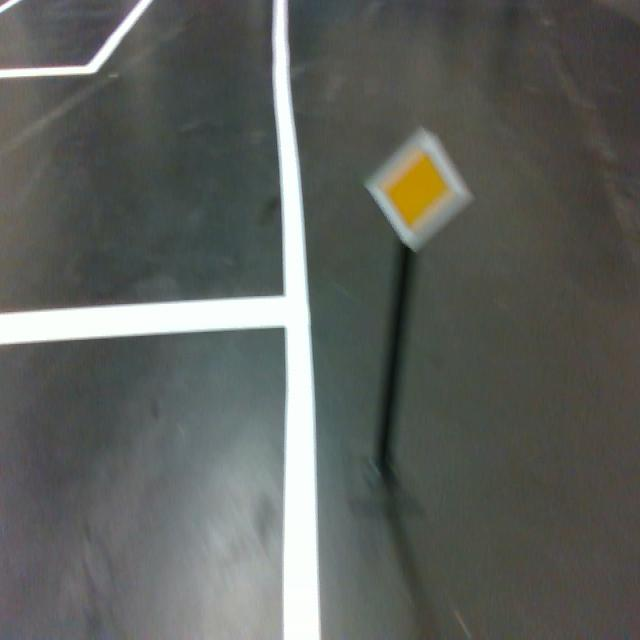priority-sign: (363, 126, 475, 255)
